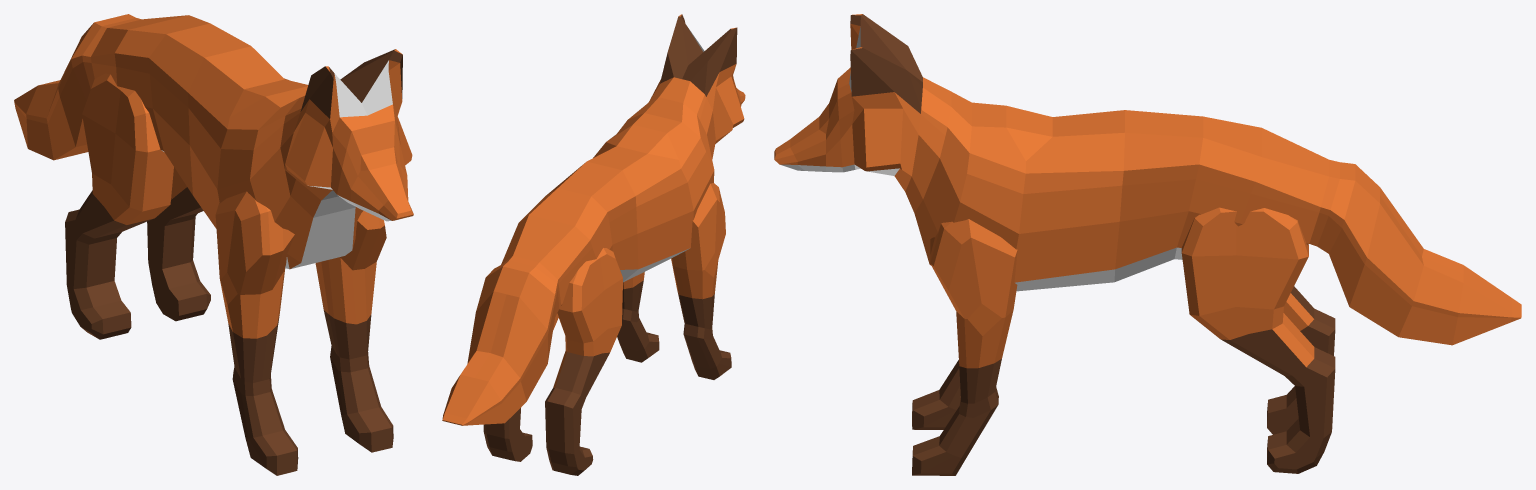
The model's file is Fox_model.fbx.
3 views of the same model, side by side, from view 1: azimuth 30°, elevation 25°; view 2: azimuth 150°, elevation 25°; view 3: azimuth 270°, elevation 25° (orthographic). The views are drawn at different scales.
Parts seen in each view (by area): view 1: fox body, back right, front right, front left, back left; view 2: fox body, back right, front right, front left, back left; view 3: fox body, back left, front left, back right, front right.
Boxes of the visible parts, left/top/right/bottom form: fox body: left=14, top=14, right=413, bottom=269; back right: left=65, top=73, right=173, bottom=339; front right: left=215, top=191, right=298, bottom=475; front left: left=315, top=210, right=393, bottom=452; back left: left=147, top=167, right=210, bottom=321; fox body: left=442, top=14, right=745, bottom=425; back right: left=545, top=248, right=622, bottom=475; front right: left=671, top=183, right=731, bottom=379; front left: left=617, top=272, right=659, bottom=362; back left: left=483, top=313, right=558, bottom=461; fox body: left=774, top=14, right=1521, bottom=345; back left: left=1181, top=207, right=1335, bottom=473; front left: left=912, top=219, right=1017, bottom=475; back right: left=1267, top=286, right=1335, bottom=434; front right: left=912, top=360, right=960, bottom=429.
Size of the model in its own units: 149 by 414 by 671.
